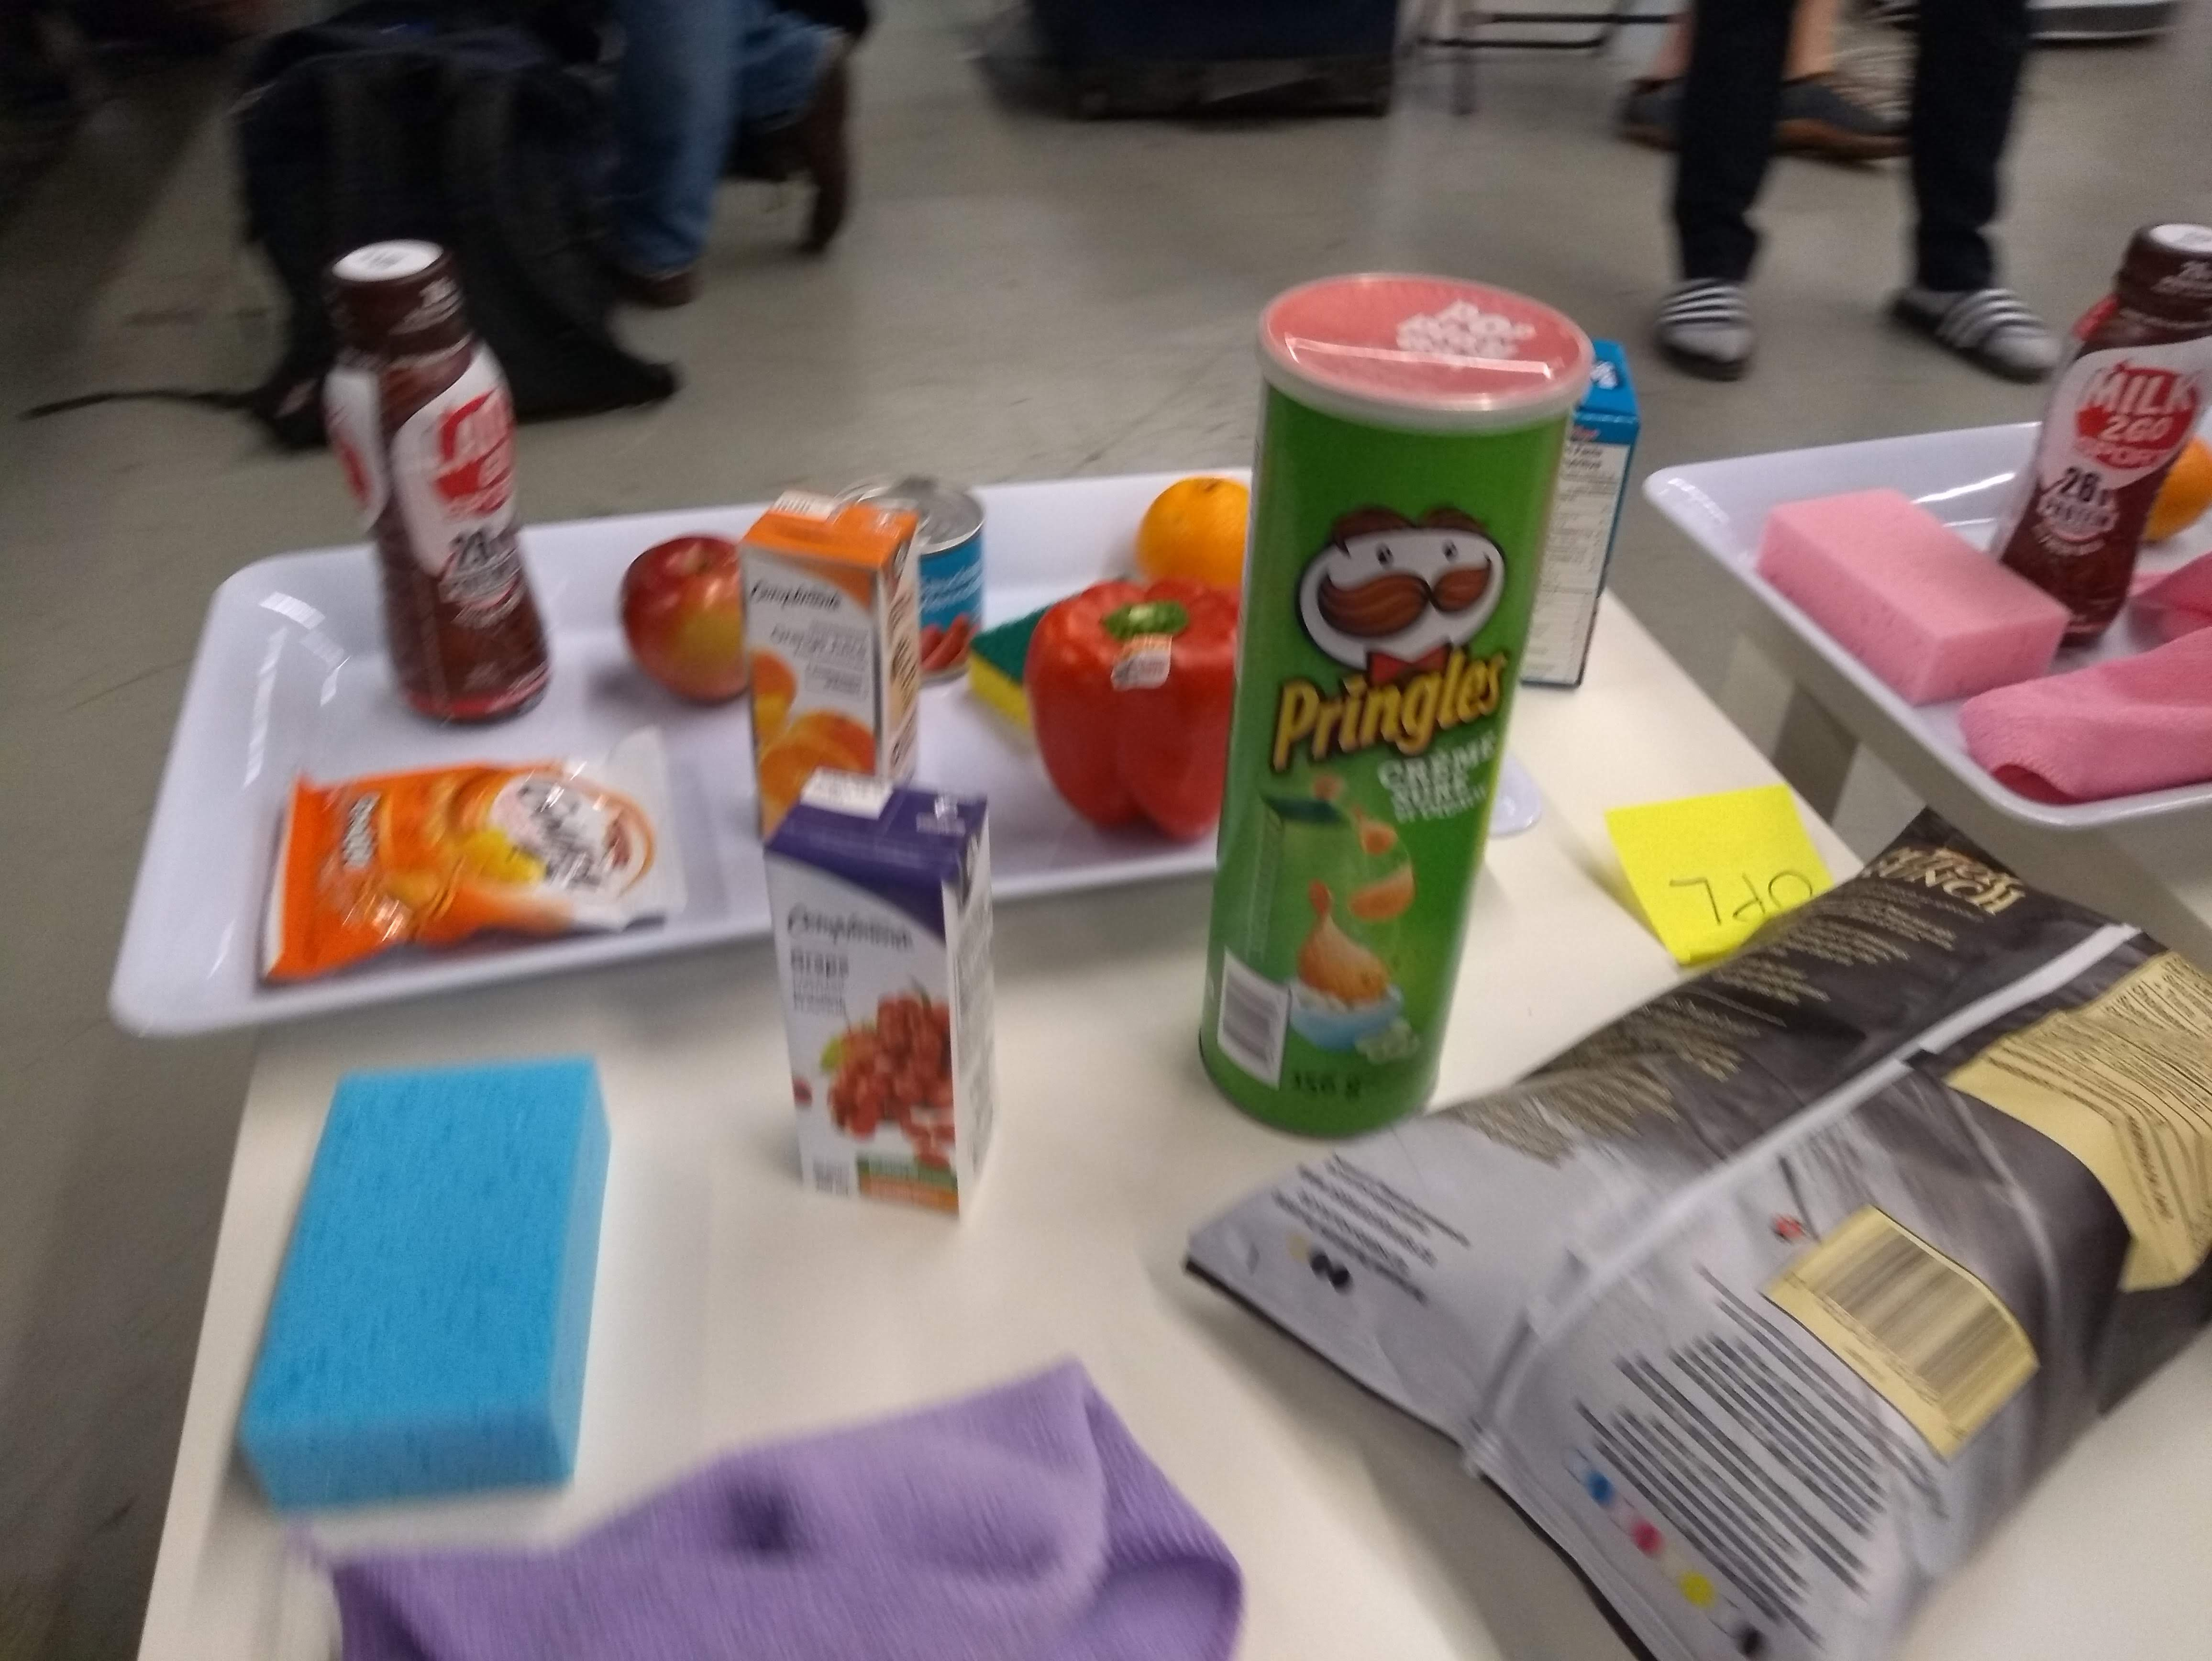apple: (602, 529, 759, 707)
cereal: (1514, 325, 1638, 712)
chocolate_drink: (311, 230, 576, 724), (1990, 227, 2212, 639)
cloth_opl: (311, 1359, 1237, 1661)
crackers: (260, 757, 679, 935)
grape_juice: (764, 792, 1012, 1221)
orange: (1132, 473, 1256, 597)
orange_juice: (741, 485, 923, 824)
paprika: (1021, 588, 1240, 846)
potato_chips: (1246, 853, 2212, 1652)
pringles: (1195, 281, 1594, 1141)
sausages: (916, 469, 993, 689)
sponge_opl: (249, 1059, 632, 1495)
